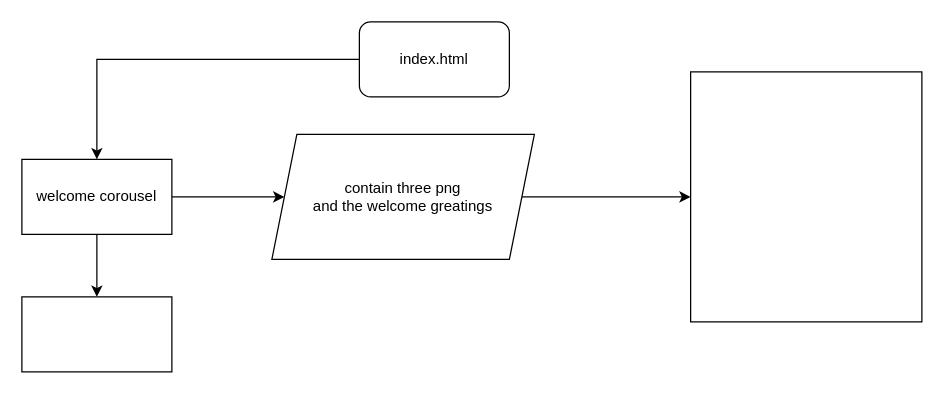
The diagram is 944 pixels wide and 394 high, and some of its shapes have lost their labels. The box of each missing label's shape, as (x1, y1, x2, y2) in pixels:
About team (highlights): (21, 296, 172, 372)
learn How to Code: (689, 71, 922, 322)
